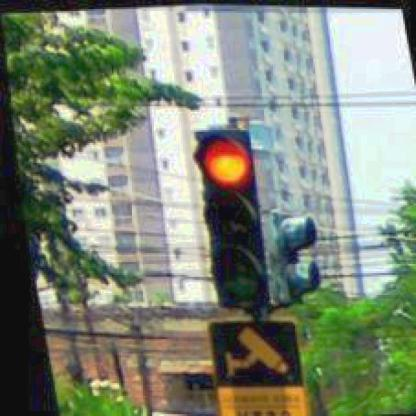Traffic Light -Red-: (182, 128, 276, 308)
